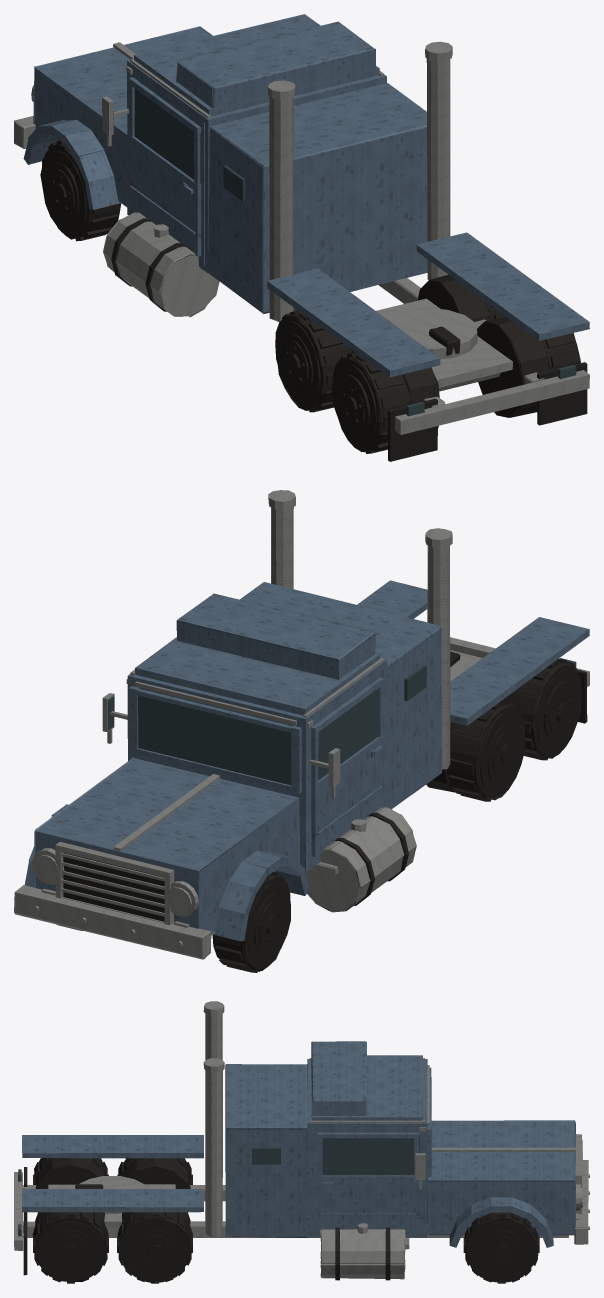
File: semi_rig.glb
3 views of the same model, one above another, from view 1: azimuth 30°, elevation 25°; view 2: azimuth 150°, elevation 25°; view 3: azimuth 270°, elevation 25° (orthographic). The views are drawn at different scales.
Visible parts, largest first — view 1: SemiRig, Door_L, Wheel_L3, Wheel_L2, Wheel_R3, Wheel_L1, Glass_L, Wheel_R2; view 2: SemiRig, Door_L, Wheel_L2, Wheel_L3, Wheel_L1, Glass_L; view 3: SemiRig, Door_R, Wheel_R3, Wheel_R2, Wheel_R1, Glass_R, Wheel_L2, Wheel_L3.
Part boxes in pixels (x1=…): SemiRig: x1=14, y1=14, x2=589, y2=461; Door_L: x1=128, y1=77, x2=201, y2=256; Wheel_L3: x1=331, y1=352, x2=439, y2=453; Wheel_L2: x1=275, y1=310, x2=354, y2=412; Wheel_R3: x1=477, y1=317, x2=580, y2=417; Wheel_L1: x1=40, y1=140, x2=121, y2=241; Glass_L: x1=134, y1=88, x2=201, y2=184; Wheel_R2: x1=417, y1=274, x2=505, y2=321; SemiRig: x1=14, y1=490, x2=589, y2=959; Door_L: x1=311, y1=677, x2=383, y2=856; Wheel_L2: x1=426, y1=700, x2=525, y2=801; Wheel_L3: x1=503, y1=658, x2=582, y2=760; Wheel_L1: x1=212, y1=872, x2=290, y2=972; Glass_L: x1=318, y1=689, x2=377, y2=779; SemiRig: x1=14, y1=1001, x2=589, y2=1280; Door_R: x1=317, y1=1132, x2=419, y2=1229; Wheel_R3: x1=32, y1=1212, x2=108, y2=1283; Wheel_R2: x1=117, y1=1212, x2=192, y2=1283; Wheel_R1: x1=463, y1=1212, x2=539, y2=1283; Glass_R: x1=322, y1=1138, x2=414, y2=1175; Wheel_L2: x1=117, y1=1158, x2=192, y2=1188; Wheel_L3: x1=33, y1=1158, x2=108, y2=1188.
Bounding box in the file's own units: 2.75 × 2.92 × 7.09.
4 materials, 2 textured.
